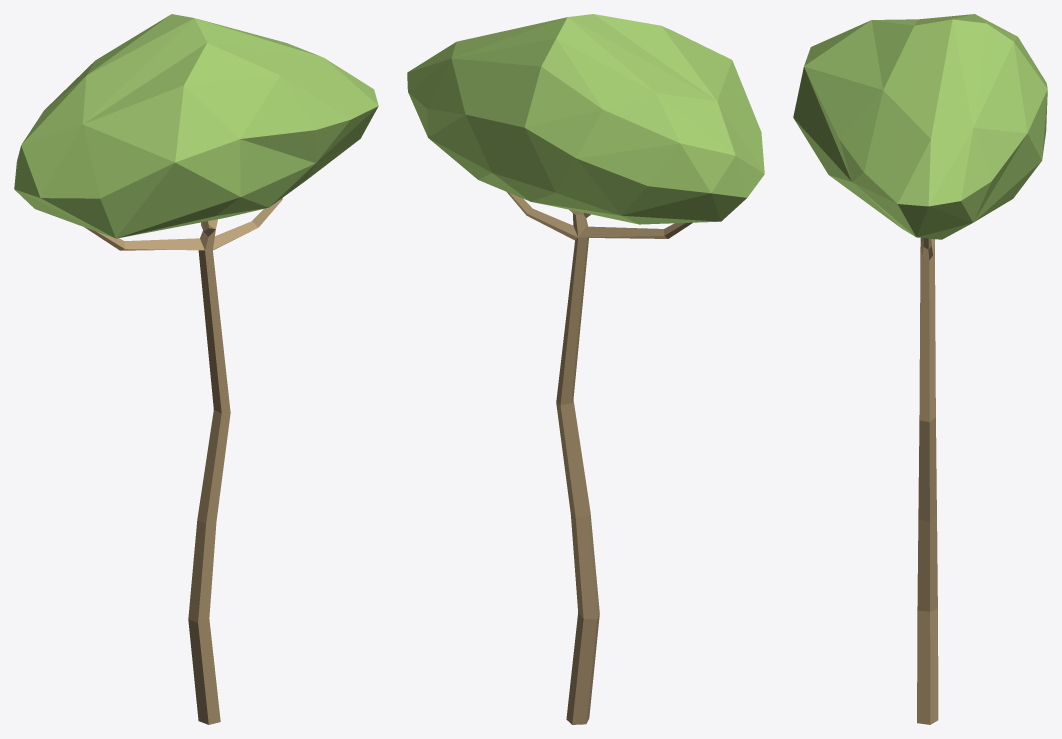
File: Acacia_Tree_m_02_LOD.fbx
3 views of the same model, side by side, from view 1: azimuth 30°, elevation 25°; view 2: azimuth 150°, elevation 25°; view 3: azimuth 270°, elevation 25° (orthographic). The views are drawn at different scales.
Parts seen in each view (by area): view 1: Acacia_Tree_m_02_LOD0; view 2: Acacia_Tree_m_02_LOD0; view 3: Acacia_Tree_m_02_LOD0.
Boxes of the visible parts, bbox=[...] form: Acacia_Tree_m_02_LOD0: bbox=[14, 14, 378, 724]; Acacia_Tree_m_02_LOD0: bbox=[407, 14, 764, 724]; Acacia_Tree_m_02_LOD0: bbox=[793, 14, 1047, 724].
Size of what is drawn, in the model's own units: 538 by 1032 by 340.
